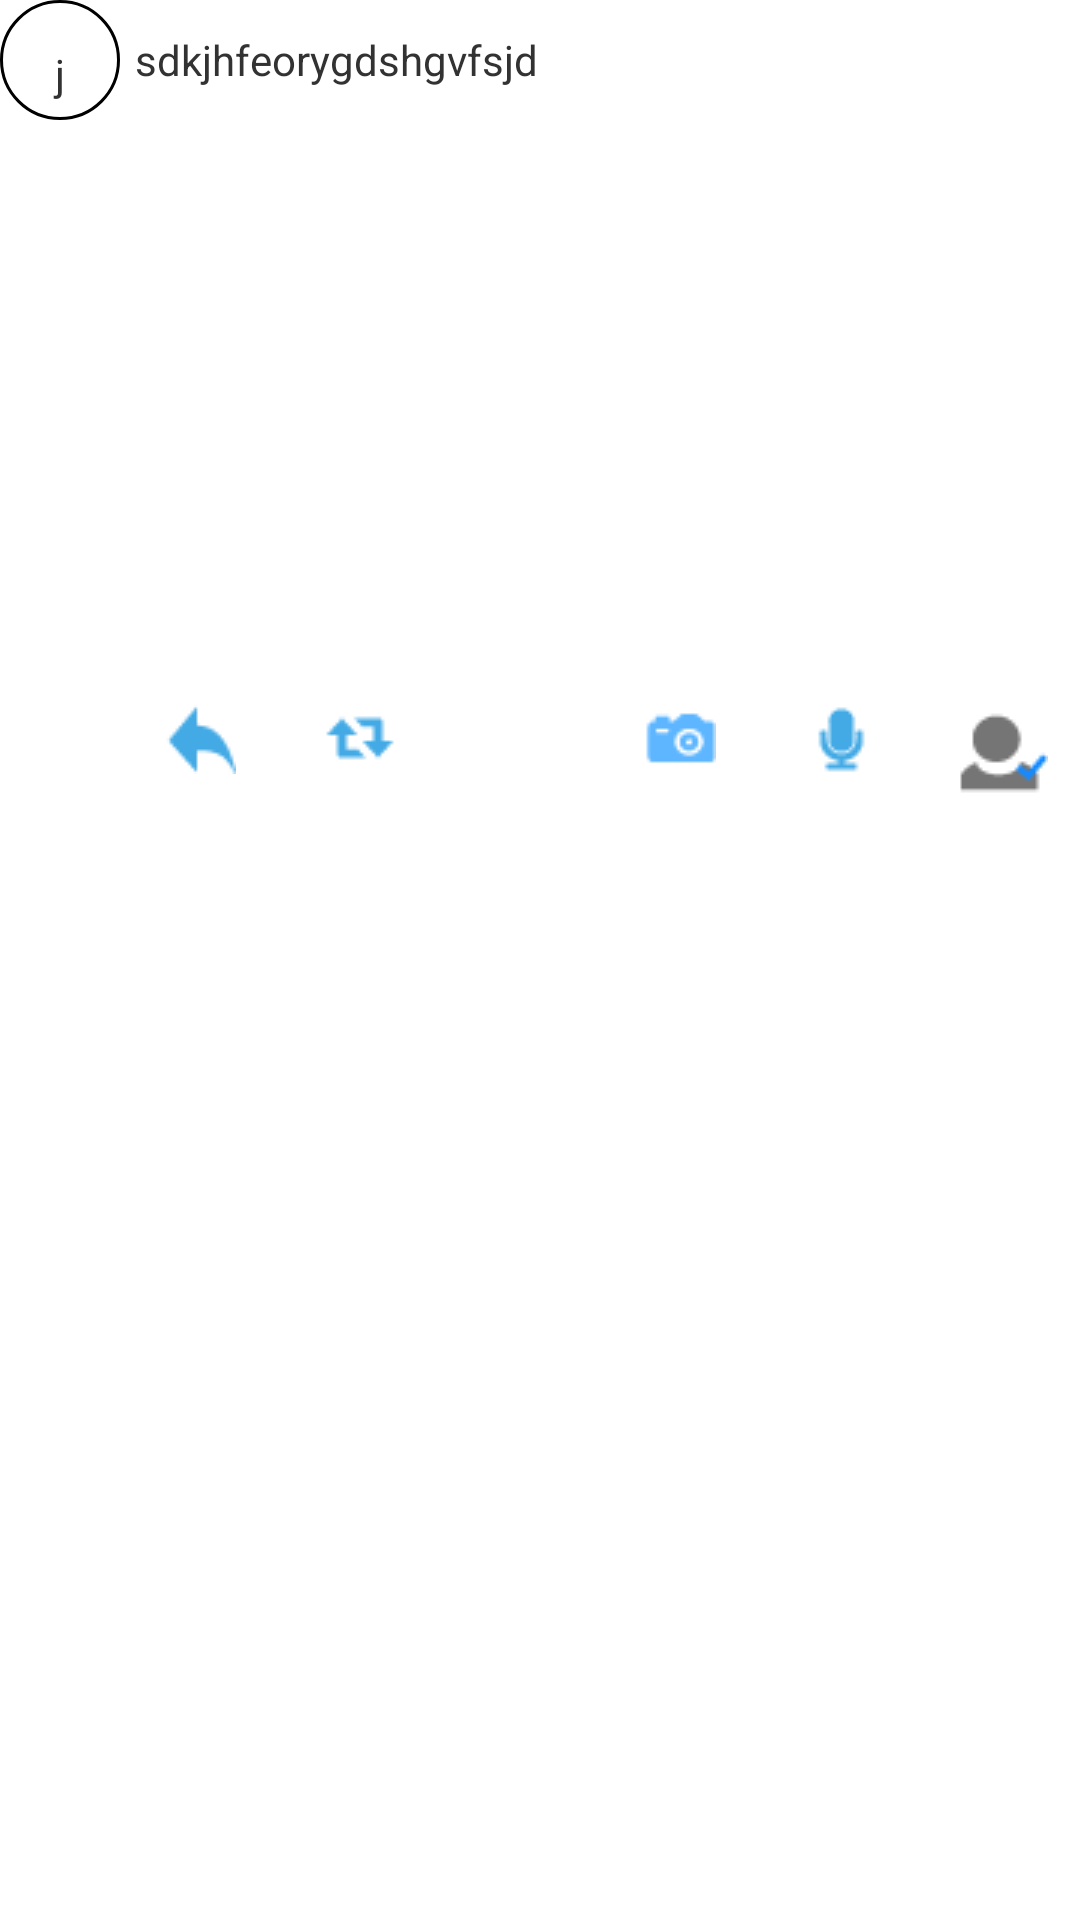

Icon bounding boxes for this 1080×1920 phone screenshot, format {"left": x1, "top": y1, "right": x2, "bottom": y2}:
camera: {"left": 646, "top": 713, "right": 716, "bottom": 763}
follow up: {"left": 960, "top": 715, "right": 1048, "bottom": 791}
recorder: {"left": 818, "top": 707, "right": 865, "bottom": 772}
reply: {"left": 169, "top": 707, "right": 236, "bottom": 774}
retweet: {"left": 326, "top": 716, "right": 394, "bottom": 760}
